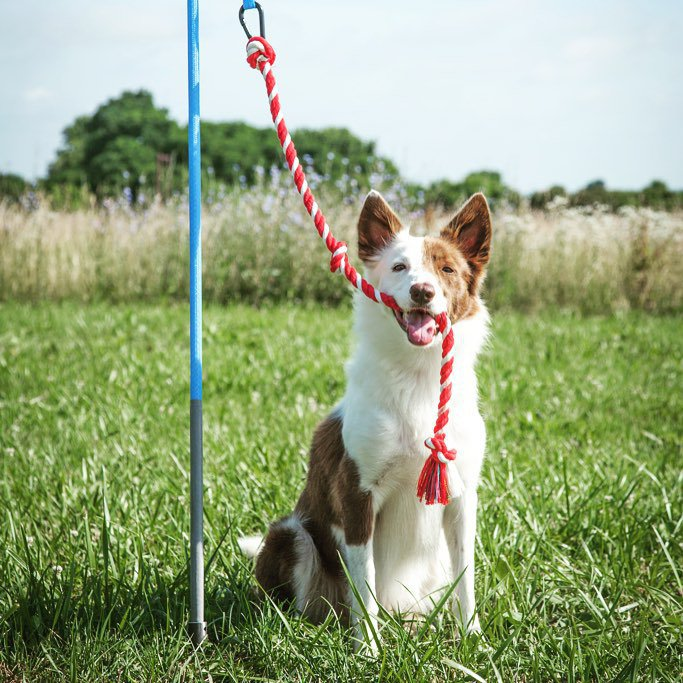dog: (254, 186, 505, 649)
